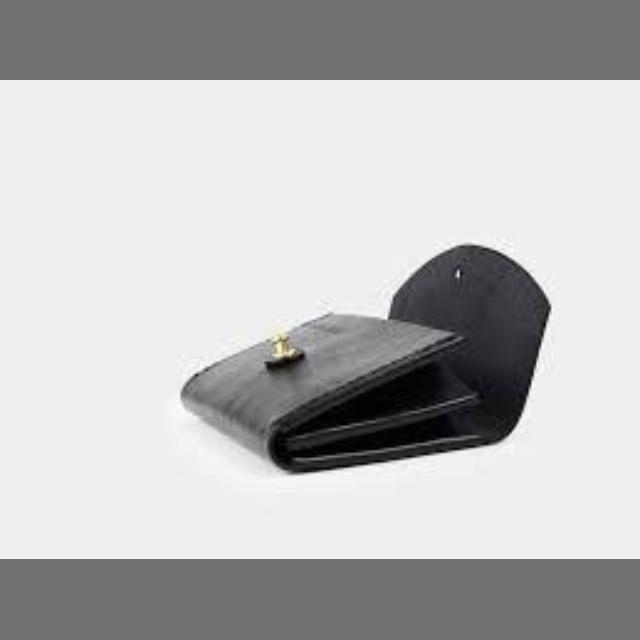Wallet: (182, 218, 562, 494)
